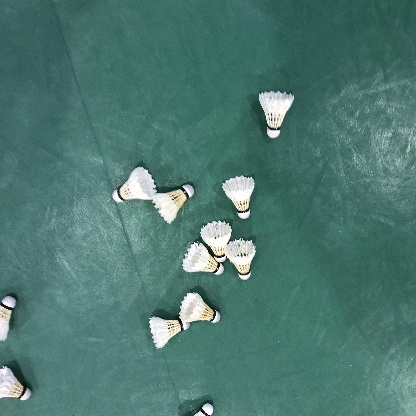ball_single: (151, 184, 194, 224), (259, 90, 294, 139), (112, 166, 158, 202), (222, 175, 255, 219), (182, 242, 224, 275), (149, 316, 190, 349), (200, 220, 232, 262), (225, 238, 256, 280), (179, 292, 221, 323), (0, 366, 31, 400), (0, 296, 16, 341), (194, 403, 214, 416)
